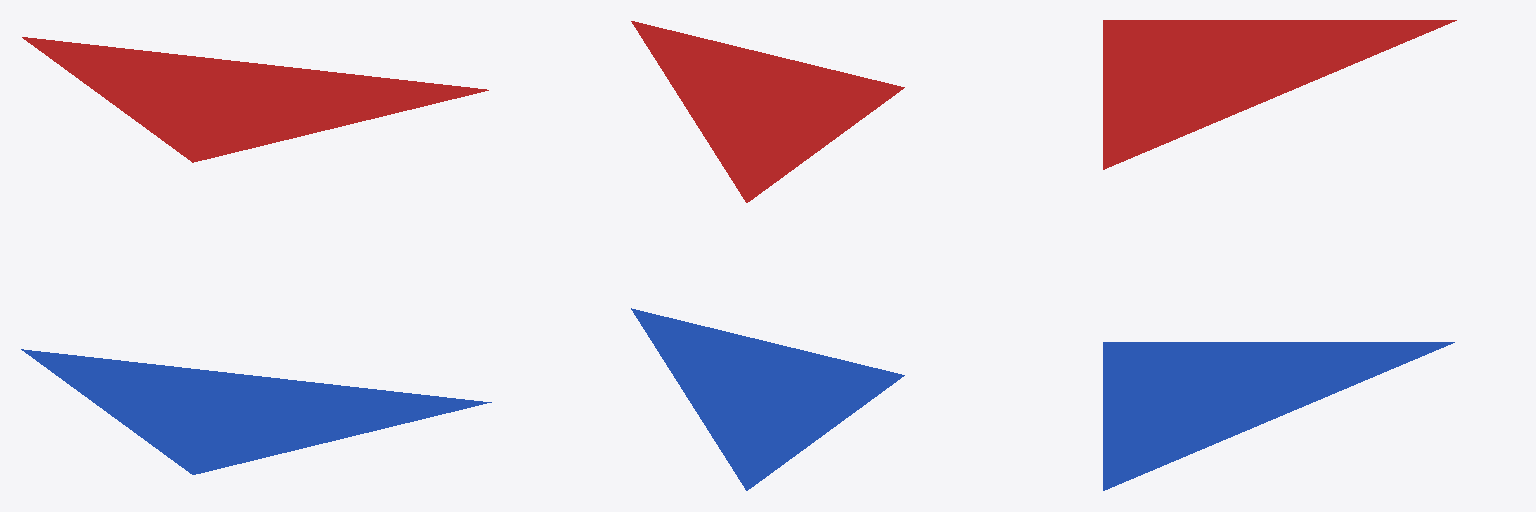
URDF robot description (sample_robot):
<?xml version="1.0"?>
<robot name="sample_robot">
  <link name="base_link">
    <visual>
      <origin xyz="0 0 0" rpy="0 0 0"/>
      <geometry>
        <mesh filename="package://sample_robot/meshes/base_link.STL"/>
      </geometry>
      <material name="blue">
        <color rgba="0.2 0.4 0.8 1.0"/>
      </material>
    </visual>
  </link>

  <link name="arm_link">
    <visual>
      <origin xyz="0 0 0.5" rpy="0 0 0"/>
      <geometry>
        <mesh filename="package://sample_robot/meshes/arm_link.STL"/>
      </geometry>
      <material name="red">
        <color rgba="0.8 0.2 0.2 1.0"/>
      </material>
    </visual>
  </link>

  <joint name="base_to_arm" type="fixed">
    <parent link="base_link"/>
    <child link="arm_link"/>
    <origin xyz="0 0 0.5" rpy="0 0 0"/>
  </joint>
</robot>

--- Facts derived from the render (not from the file) ---
Views: 3 orthographic renders of the robot side by side, from view 1: azimuth 30°, elevation 25°; view 2: azimuth 150°, elevation 25°; view 3: azimuth 270°, elevation 25°.
Robot: sample_robot — 2 links, 1 joints (1 fixed); root link base_link; default pose: every joint at zero.
Links seen in each view (by area): view 1: base_link, arm_link; view 2: base_link, arm_link; view 3: arm_link, base_link.
Boxes of the visible links, x1,y1,x2,y2 form: base_link: (21,349,491,474); arm_link: (22,37,488,162); base_link: (631,308,904,490); arm_link: (631,21,904,202); arm_link: (1103,20,1456,169); base_link: (1103,342,1454,490).
Size in the robot's own frame: 1 by 1 by 1 metres.
2 mesh visuals loaded from 2 distinct referenced files (2 ASCII STL).
